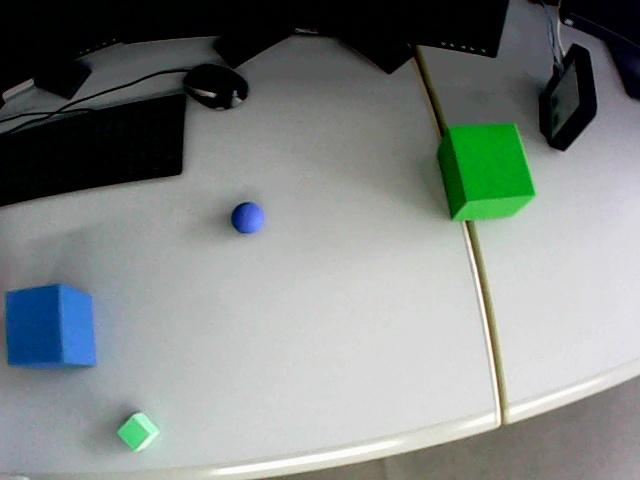blue_block: (6, 284, 95, 368)
